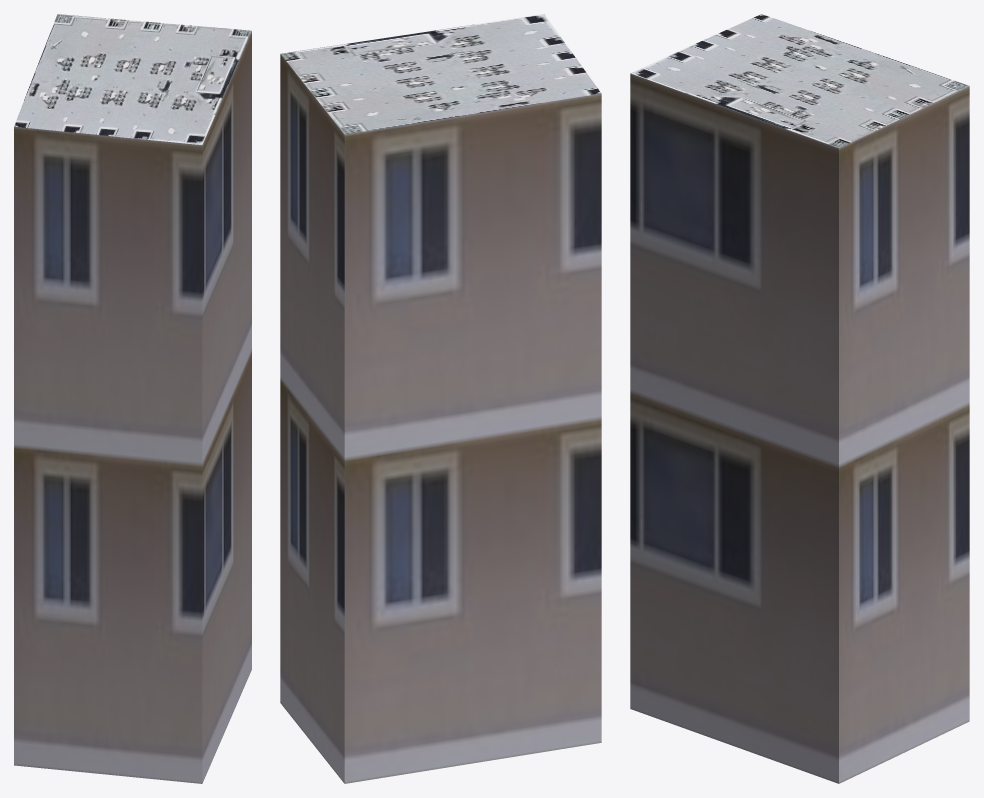
The model's file is ResTex__1606.fbx.
3 views of the same model, side by side, from view 1: azimuth 30°, elevation 25°; view 2: azimuth 150°, elevation 25°; view 3: azimuth 270°, elevation 25° (orthographic). The views are drawn at different scales.
Visible parts, largest first — view 1: CityEngineMaterial_21_m, CityEngineMaterial_m; view 2: CityEngineMaterial_21_m, CityEngineMaterial_m; view 3: CityEngineMaterial_21_m, CityEngineMaterial_m.
Part boxes in pixels (left/top/right/bottom): CityEngineMaterial_21_m: left=14, top=31, right=251, bottom=783; CityEngineMaterial_m: left=14, top=14, right=251, bottom=144; CityEngineMaterial_21_m: left=280, top=54, right=601, bottom=783; CityEngineMaterial_m: left=281, top=14, right=601, bottom=134; CityEngineMaterial_21_m: left=630, top=73, right=969, bottom=783; CityEngineMaterial_m: left=630, top=14, right=969, bottom=148.
Bounding box in the file's own units: 2.72 × 6 × 2.91.
2 materials, 2 textured.
